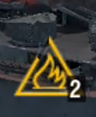2fire: (13, 68, 83, 103)
